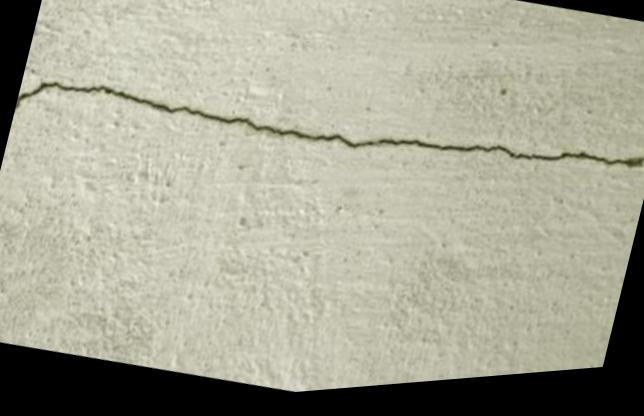crack: (14, 83, 644, 179)
